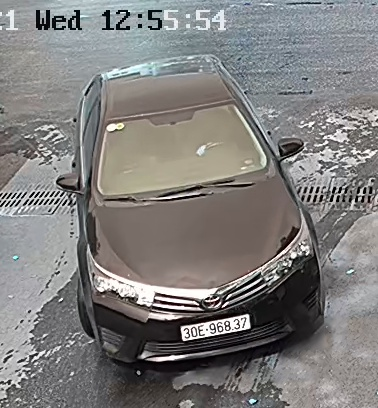vehicle plate: (173, 316, 258, 342)
